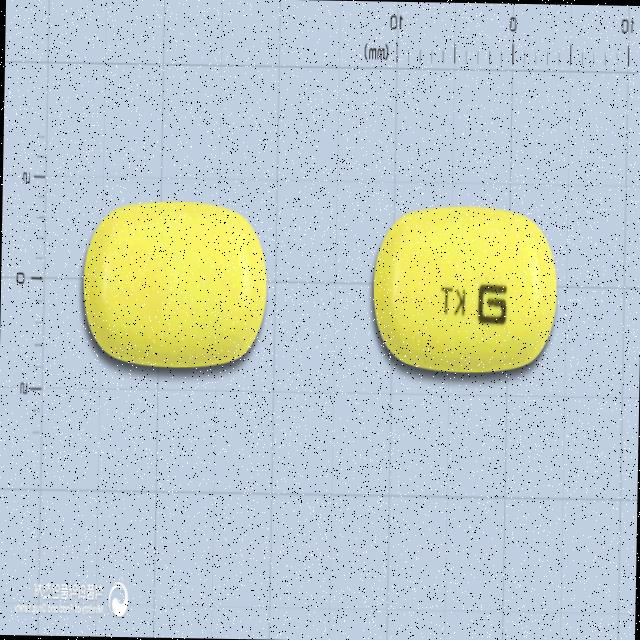Klaricid Film Coated - 500mg: (370, 202, 558, 374), (80, 198, 268, 370)
